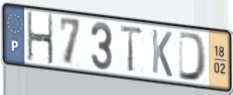3: (89, 20, 113, 72)
7: (59, 16, 82, 68)
D: (177, 30, 209, 84)
H: (26, 11, 55, 67)
K: (151, 27, 174, 80)
T: (118, 24, 145, 74)
